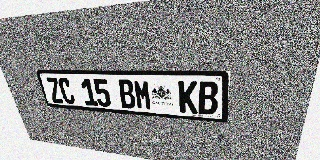1: (79, 78, 98, 106)
5: (93, 79, 112, 107)
B: (198, 81, 218, 115), (117, 79, 137, 109)
C: (57, 78, 76, 104)
K: (178, 81, 197, 114)
M: (133, 79, 152, 110)
Z: (45, 77, 64, 103)
